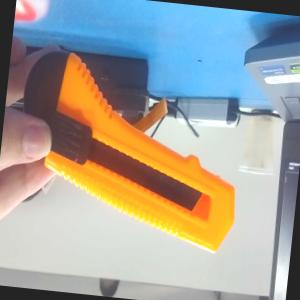estilete: (7, 44, 249, 252)
